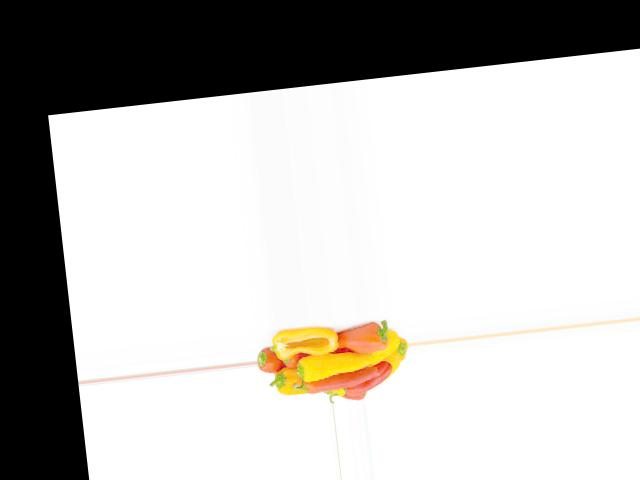bell_pepper: (255, 344, 301, 379)
